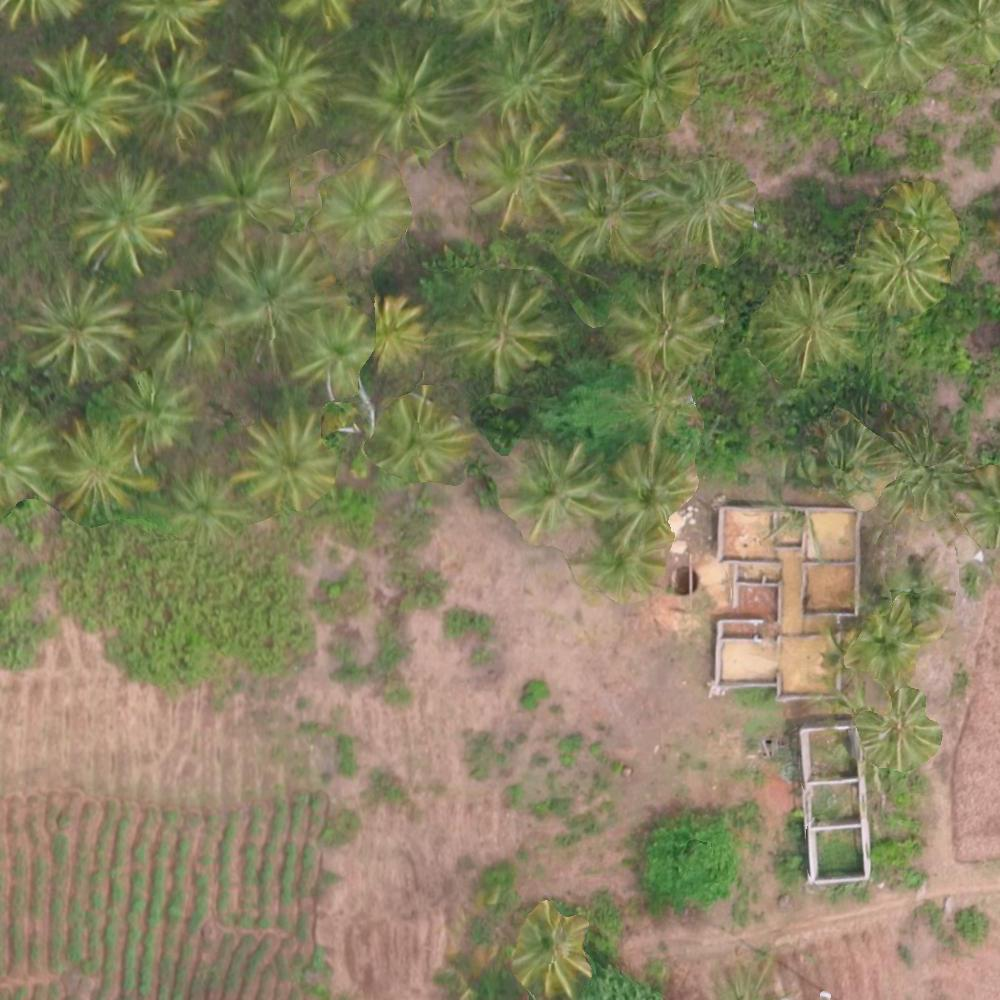Palm: (460, 122, 570, 228), (22, 47, 129, 152), (21, 275, 128, 380), (348, 43, 455, 143), (213, 240, 325, 334), (70, 168, 174, 268), (48, 422, 155, 515), (650, 157, 749, 254), (241, 414, 341, 507), (471, 32, 574, 122), (612, 282, 714, 372), (460, 284, 552, 382), (564, 166, 657, 261), (229, 36, 327, 124), (126, 51, 219, 143), (509, 439, 600, 533), (603, 31, 701, 118), (853, 223, 951, 308), (762, 276, 854, 366), (200, 149, 295, 232), (135, 286, 220, 369), (380, 393, 465, 471), (319, 165, 402, 244), (161, 466, 241, 547), (120, 365, 197, 447), (292, 307, 367, 381), (361, 295, 427, 363)
